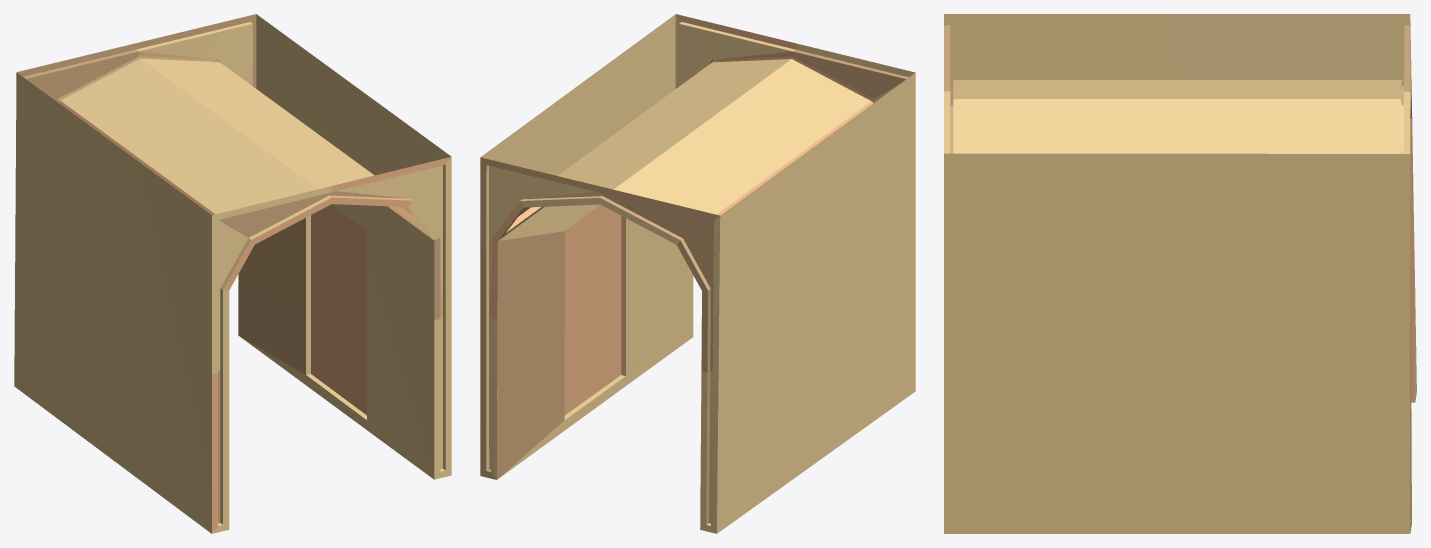
The model's file is tunnel.fbx.
The picture shows the model from 3 angles, left to right: view 1: azimuth 30°, elevation 25°; view 2: azimuth 150°, elevation 25°; view 3: azimuth 270°, elevation 25°; orthographic projection. The views are drawn at different scales.
Parts seen in each view (by area): view 1: polySurface9; view 2: polySurface9; view 3: polySurface9.
Part boxes in pixels (x1,y1,x2,y2): polySurface9: [14, 14, 451, 533]; polySurface9: [480, 14, 915, 533]; polySurface9: [944, 14, 1416, 533].
Bounding box in the file's own units: 3.92 × 4.98 × 5.62.
